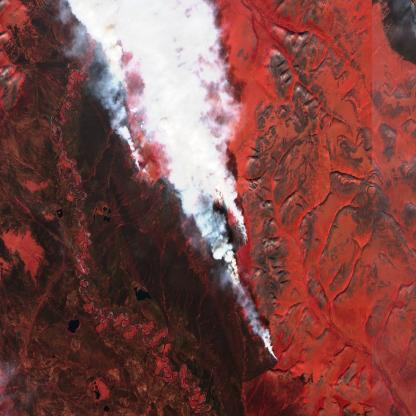fire: (76, 0, 290, 416)
